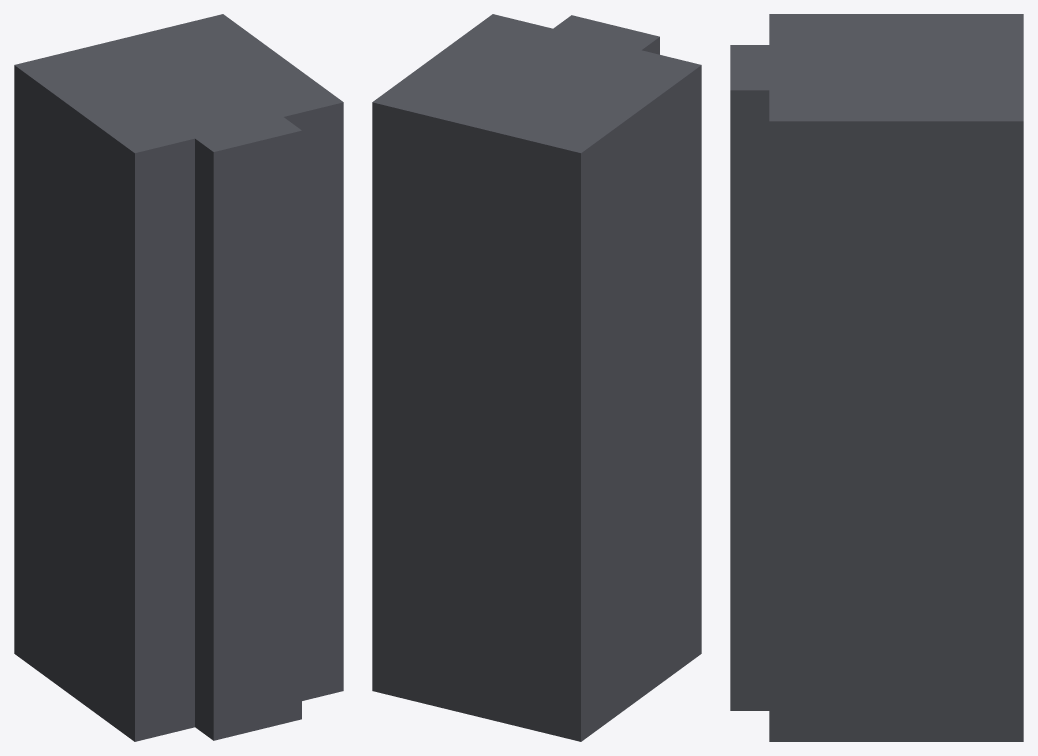
Rendered from Handguard_MP5_Rail.fbx.
3 views of the same model, side by side, from view 1: azimuth 30°, elevation 25°; view 2: azimuth 150°, elevation 25°; view 3: azimuth 270°, elevation 25° (orthographic). The views are drawn at different scales.
Parts seen in each view (by area): view 1: prims; view 2: prims; view 3: prims.
Boxes of the visible parts, left/top/right/bottom form: prims: left=14, top=14, right=343, bottom=741; prims: left=372, top=14, right=701, bottom=741; prims: left=730, top=14, right=1023, bottom=741.
Size of the model in its own units: 0.0312 by 0.084 by 0.036.
